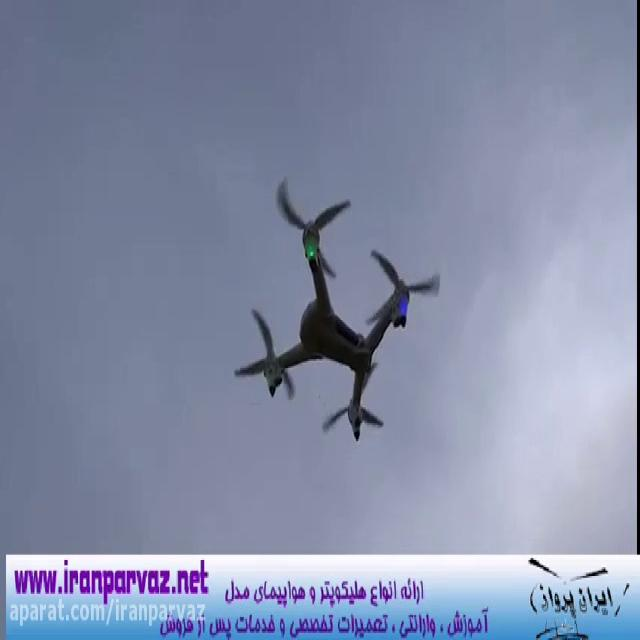drone: (230, 170, 442, 444)
